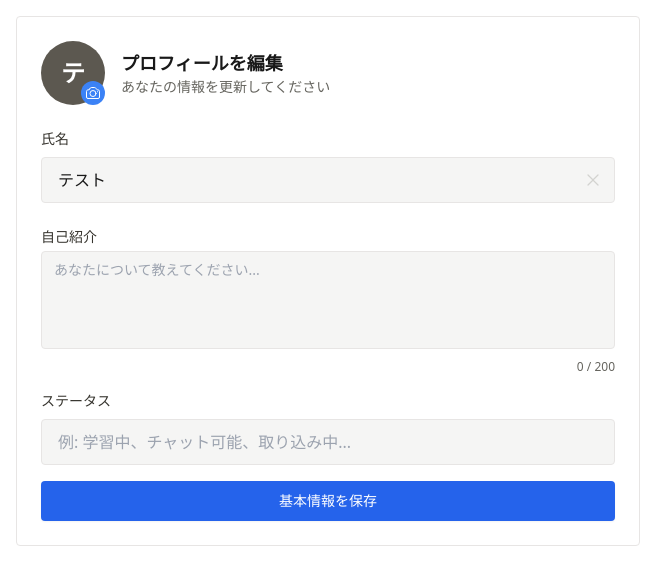
Test: ProfilePage › 送信中はボタンが「更新中...」になり無効化される
Click the button "基本情報を保存". click: click(328, 501)
box: [41,481,615,521]
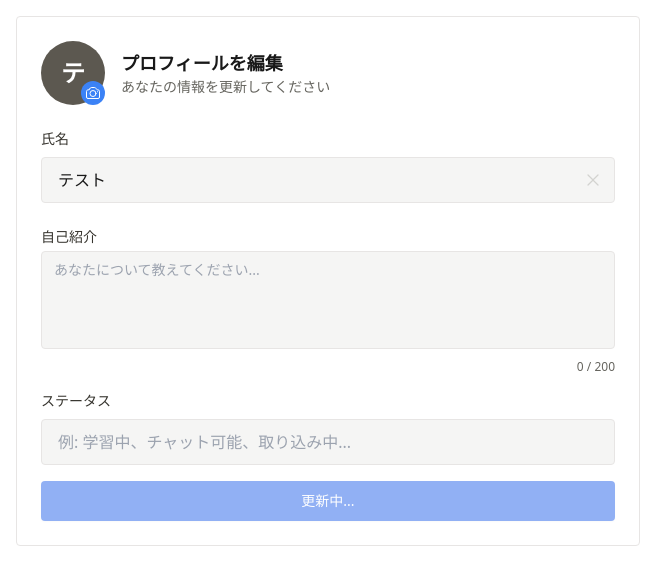
Expected: the button "更新中..." is disabled, [41,481,615,521]
